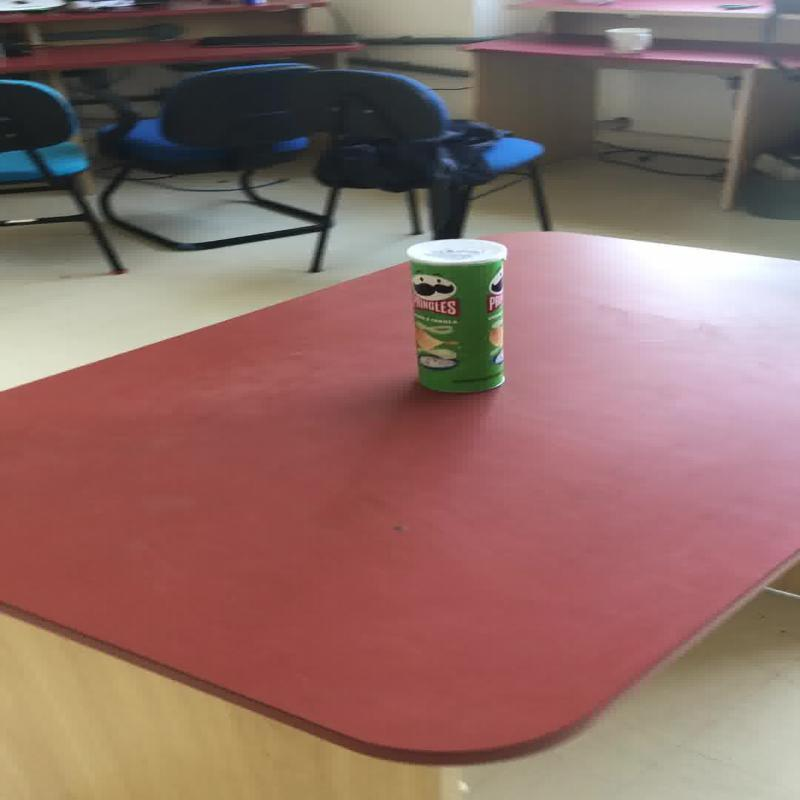pringles: (404, 237, 506, 392)
